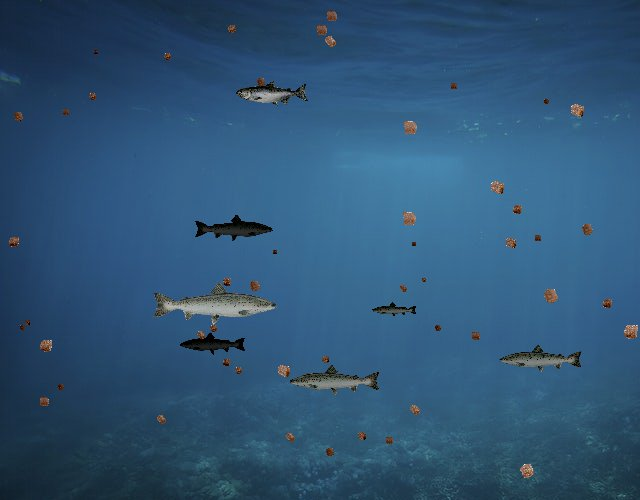Fish: (150, 280, 279, 326), (288, 363, 382, 397), (498, 343, 584, 374), (194, 214, 275, 243), (236, 81, 309, 107), (179, 332, 247, 356), (372, 302, 419, 319)
Pellet: (616, 316, 640, 347), (318, 30, 342, 54), (8, 106, 29, 127), (222, 20, 241, 39), (84, 89, 100, 105), (540, 96, 553, 109), (21, 316, 33, 328)
